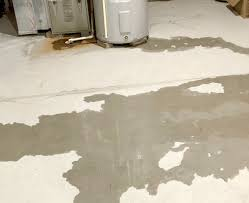Wet-floor: (0, 95, 249, 192), (66, 30, 249, 72)
